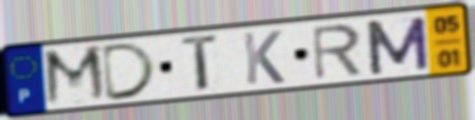D: (100, 40, 161, 104)
K: (240, 29, 287, 87)
M: (40, 42, 112, 110), (362, 14, 433, 77)
R: (309, 21, 366, 82)
T: (179, 31, 223, 95)
